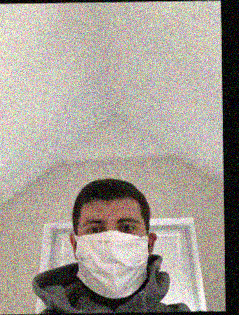with_mask: (73, 209, 148, 300)
